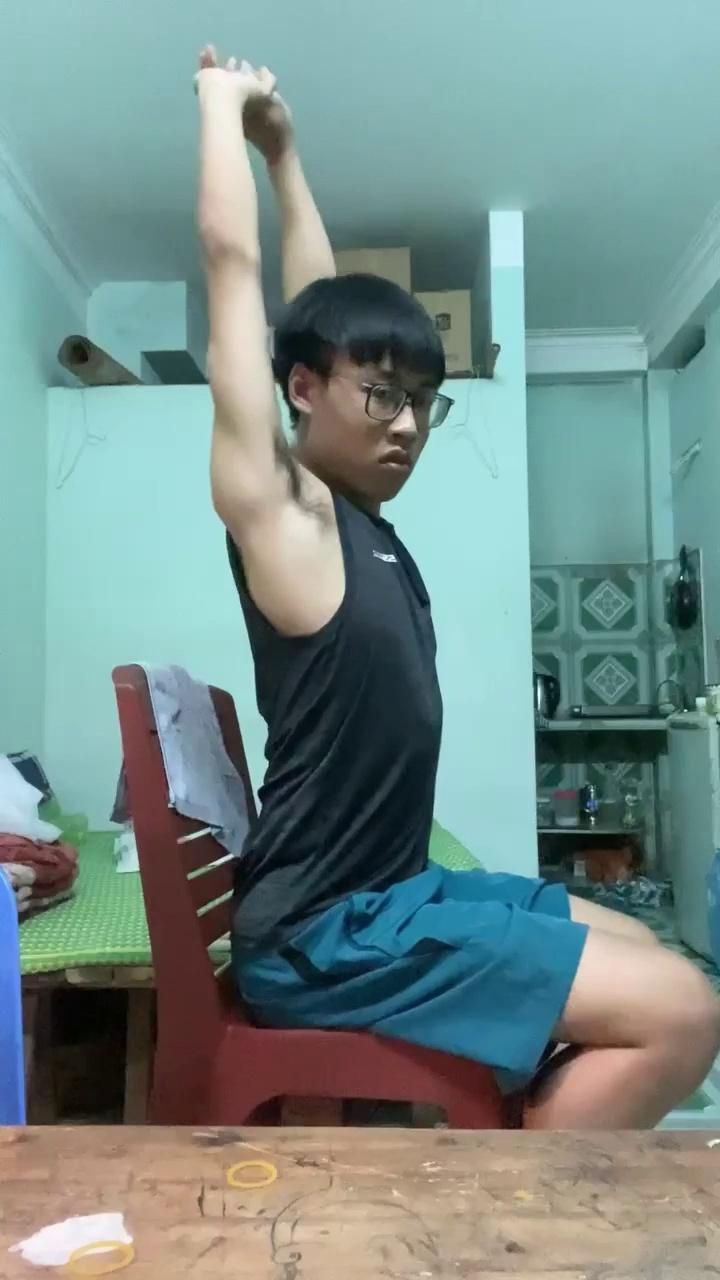GoodPosture: (194, 47, 719, 1127)
